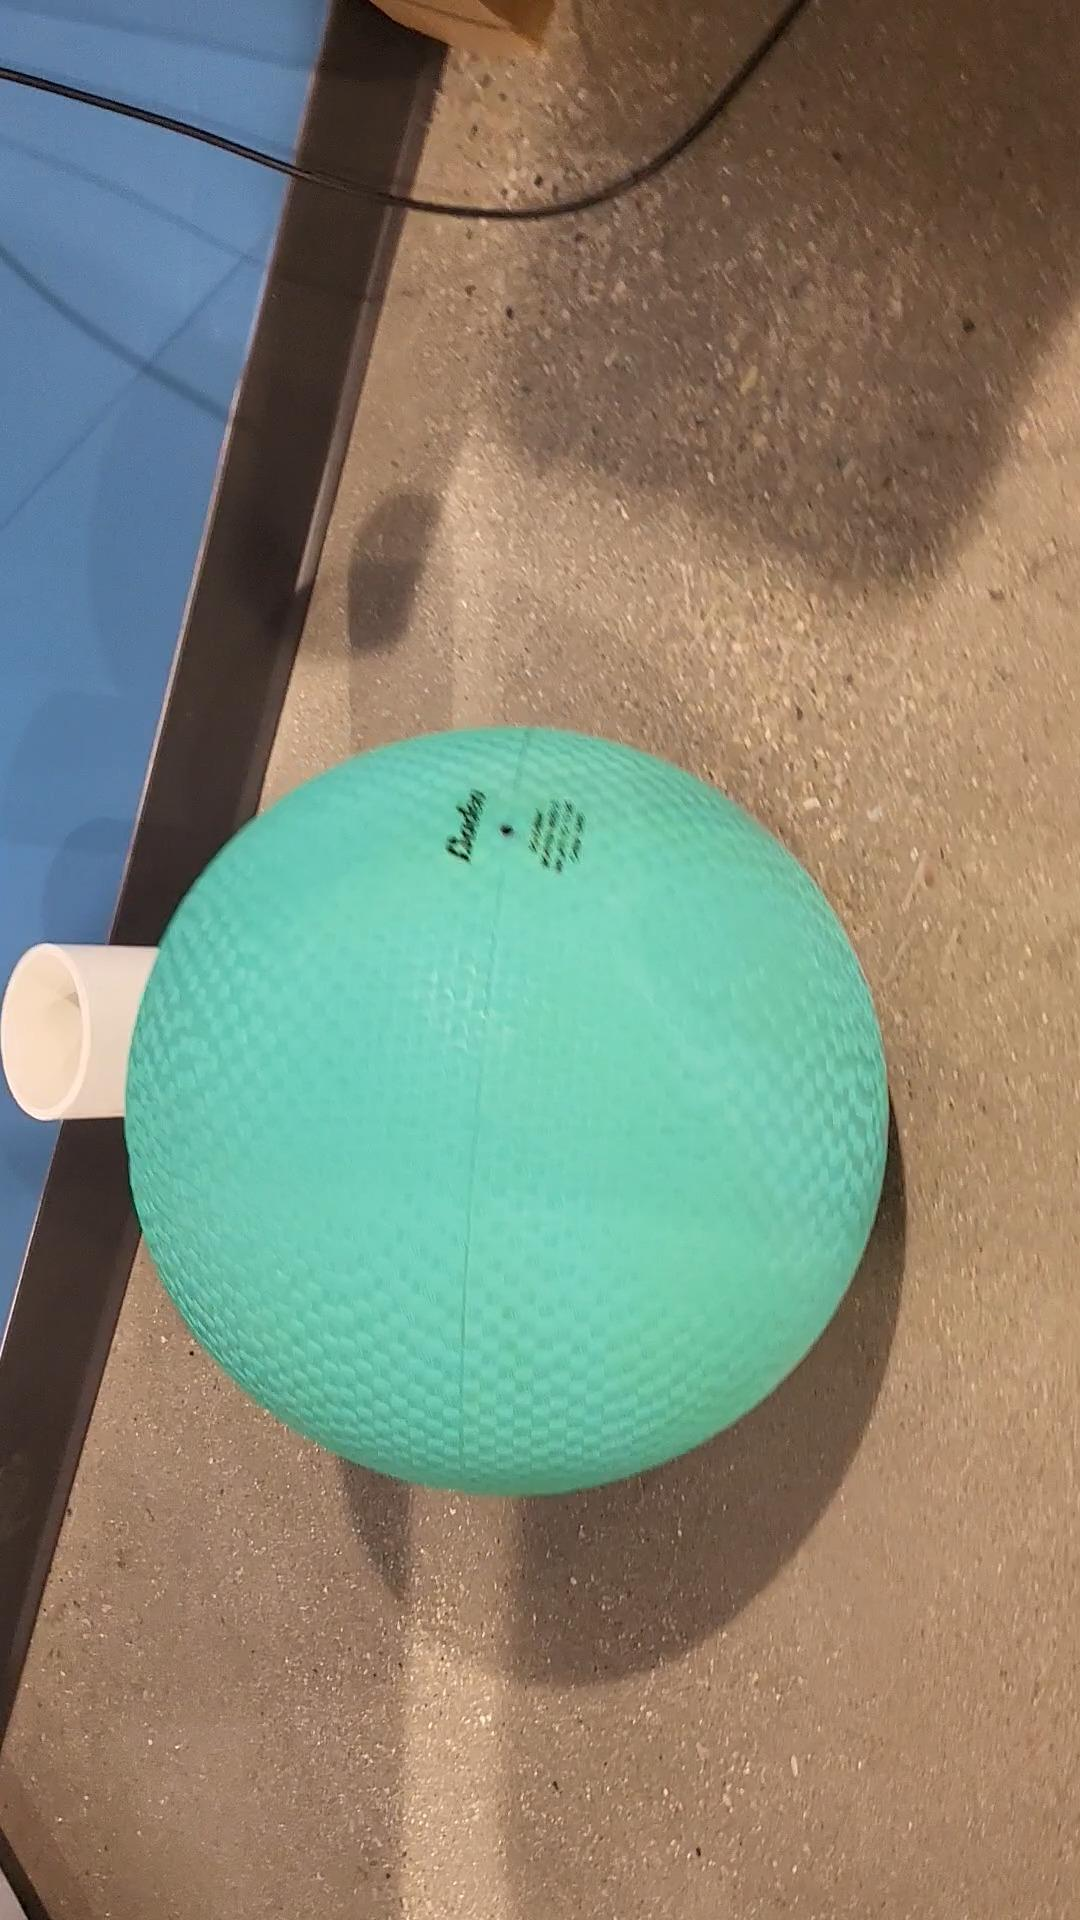algae: (123, 731, 890, 1501)
coral: (0, 935, 170, 1125)
